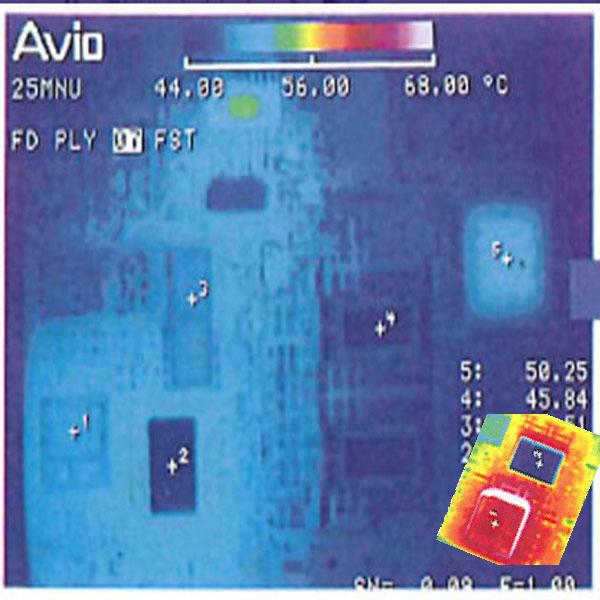componente_T: (435, 409, 600, 567), (287, 22, 352, 50)
